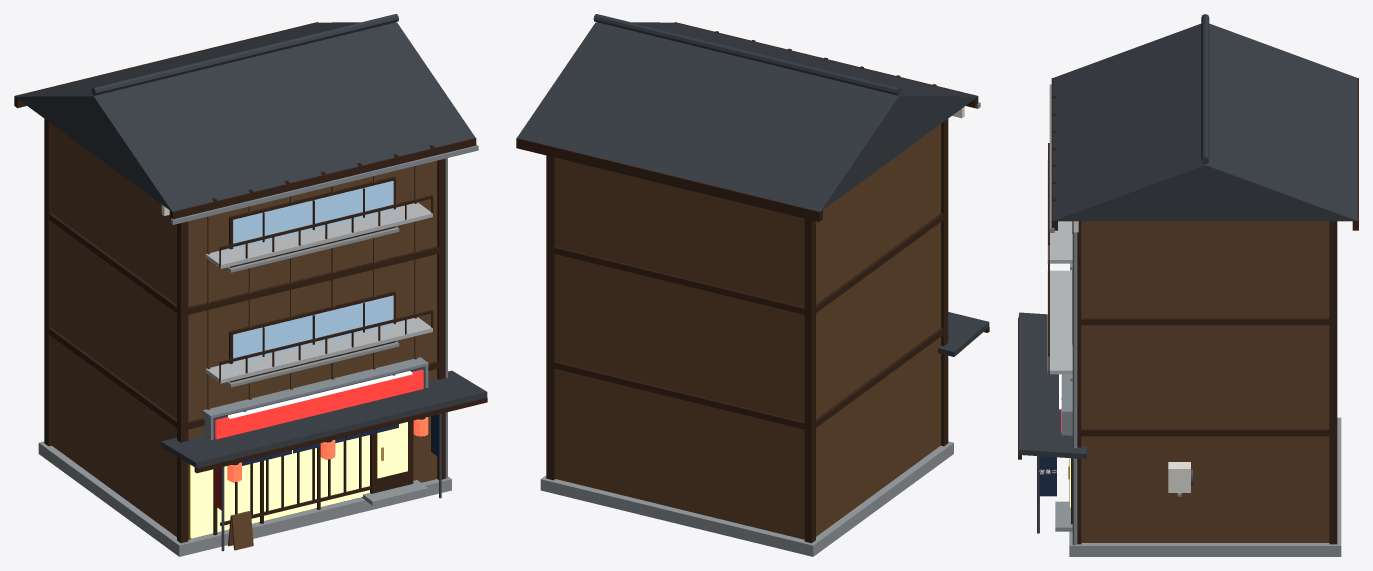
Rendered from shop_izakaya_3f.glb.
3 views of the same model, side by side, from view 1: azimuth 30°, elevation 25°; view 2: azimuth 150°, elevation 25°; view 3: azimuth 270°, elevation 25° (orthographic). The views are drawn at different scales.
Parts seen in each view (by area): view 1: body.011, roof.006, shop_glass.011, eave.006, base.011, win_glass.021, win_glass.024, sign_face.011, balcony_slab.021, balcony_slab.024, post.044, beam.032 (+22 smaller); view 2: body.011, roof.006, base.011, post.045, eave_back.006, beam.031, beam.032, post.047, ridge.006, post.044, eave.006; view 3: body.011, roof.006, eave.006, base.011, post.047, balcony_slab.021, beam.031, beam.032, downpipe.006, post.046, ridge.006, balcony_slab.024 (+5 smaller).
Part boxes in pixels (x1,y1,x2,y2): body.011: (51, 124, 437, 539); roof.006: (15, 22, 475, 211); shop_glass.011: (190, 435, 369, 538); eave.006: (161, 370, 487, 468); base.011: (38, 441, 451, 556); win_glass.021: (233, 295, 393, 363); win_glass.024: (233, 181, 393, 248); sign_face.011: (215, 369, 423, 439); balcony_slab.021: (205, 317, 432, 383); balcony_slab.024: (205, 202, 432, 268); post.044: (177, 221, 188, 543); beam.032: (49, 213, 438, 314); body.011: (555, 124, 940, 539); roof.006: (517, 22, 977, 211); base.011: (540, 441, 953, 556); post.045: (804, 218, 815, 543); eave_back.006: (516, 138, 822, 221); beam.031: (554, 328, 943, 429); beam.032: (554, 213, 943, 314); post.047: (546, 155, 555, 480); ridge.006: (593, 14, 900, 95); post.044: (941, 119, 948, 446); eave.006: (938, 312, 989, 356); body.011: (1081, 221, 1329, 542); roof.006: (1053, 23, 1357, 221); eave.006: (1018, 312, 1086, 459); base.011: (1069, 417, 1341, 556); post.047: (1329, 221, 1337, 544); balcony_slab.021: (1047, 270, 1072, 374); beam.031: (1081, 429, 1329, 436); beam.032: (1081, 318, 1329, 325); downpipe.006: (1072, 221, 1077, 545); post.046: (1077, 221, 1081, 544); ridge.006: (1201, 14, 1209, 164); balcony_slab.024: (1047, 160, 1072, 263).
Size of the model in its own units: 8.5 by 11.2 by 8.5.
